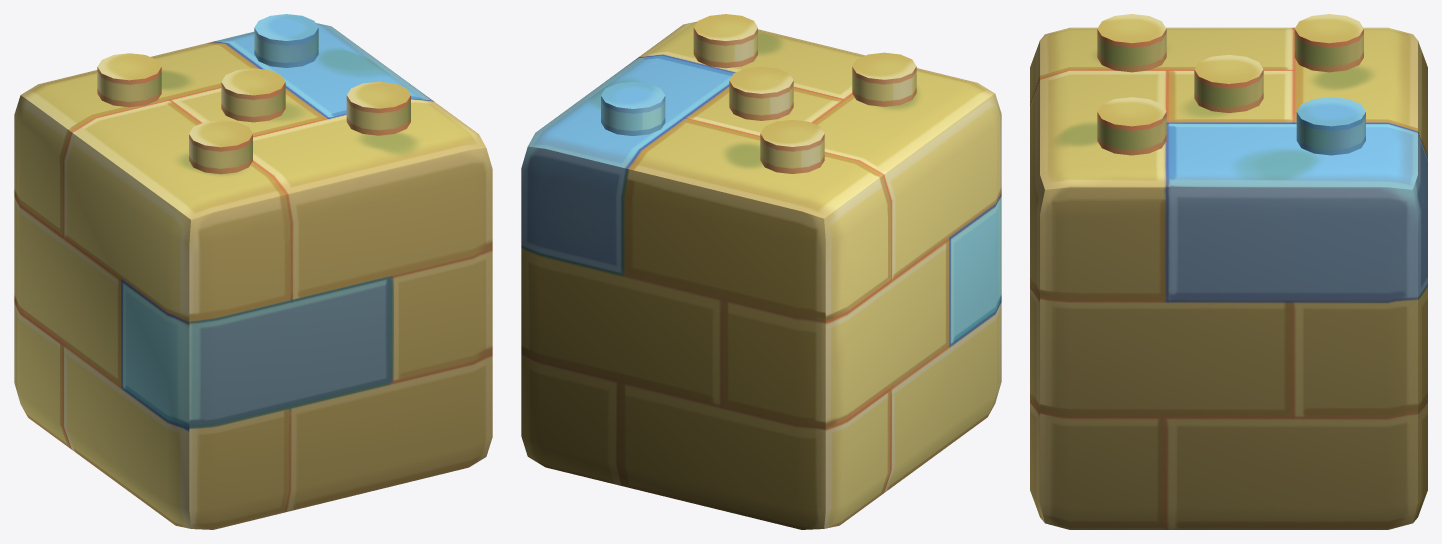
Rendered from Build_B.FBX.
3 renders of one model, left to right at view 1: azimuth 30°, elevation 25°; view 2: azimuth 150°, elevation 25°; view 3: azimuth 270°, elevation 25°, orthographic. The views are drawn at different scales.
Visible parts, largest first — view 1: Build_B; view 2: Build_B; view 3: Build_B.
Part boxes in pixels (<box>): Build_B: <box>14,14,492,529</box>; Build_B: <box>521,14,1001,529</box>; Build_B: <box>1030,14,1427,529</box>.
Size of the model in its own units: 10 by 10.81 by 10.
